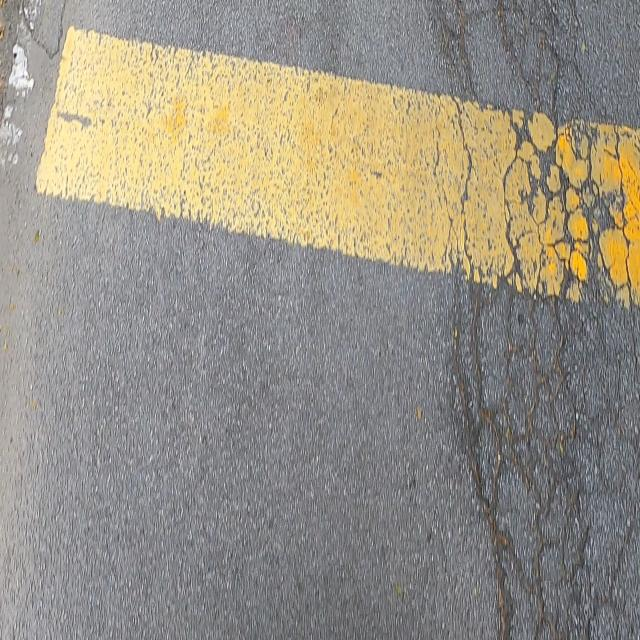Retak-Buaya: (429, 0, 640, 640)
